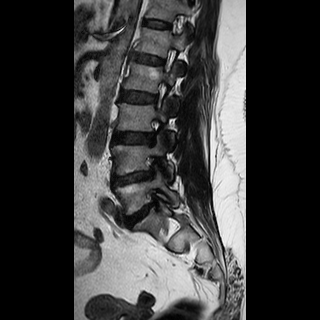LFS0: (155, 45, 182, 75)
